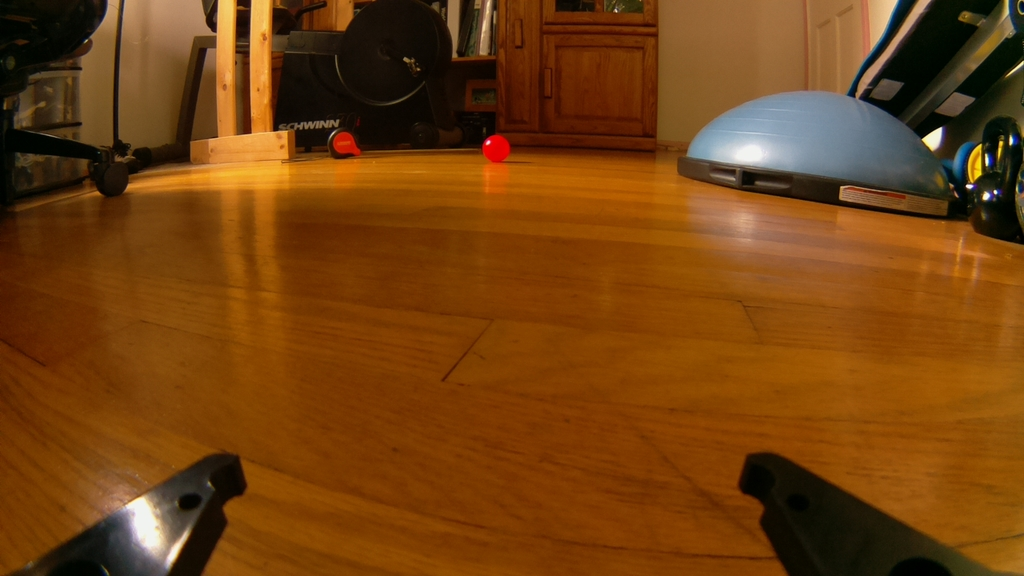ball: (478, 132, 511, 164)
